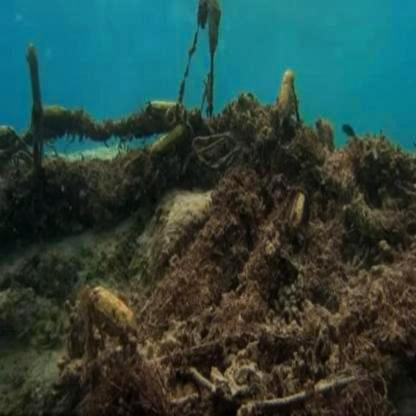net: (139, 115, 411, 392)
